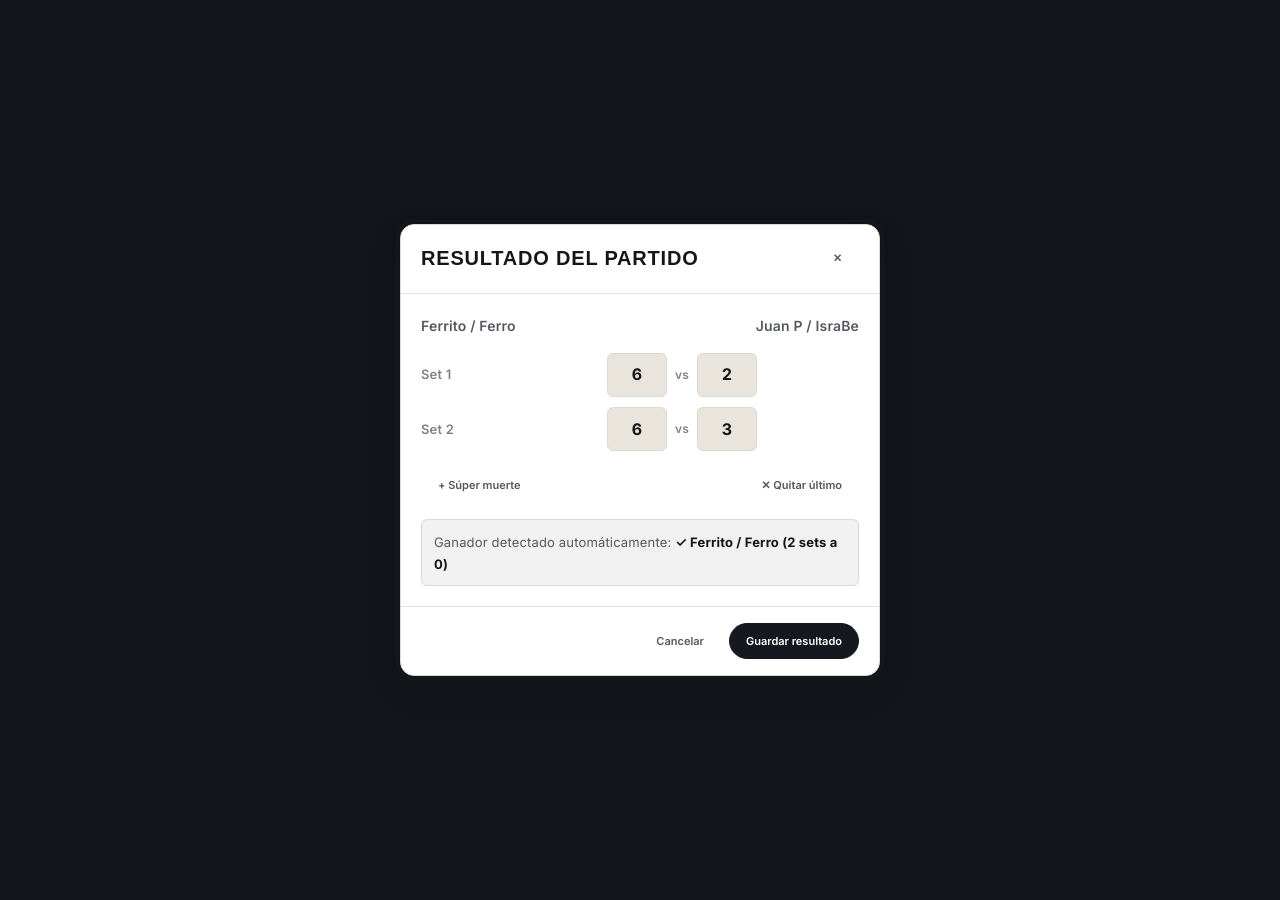
PartidoSetsResultModal súper muerte › el usuario puede agregar el campo y también quitarlo
What coordinates should you click on to do the following:
click the button "+ Súper muerte"
I would click on:
 (479, 485)
Its box is [421,467,538,503].
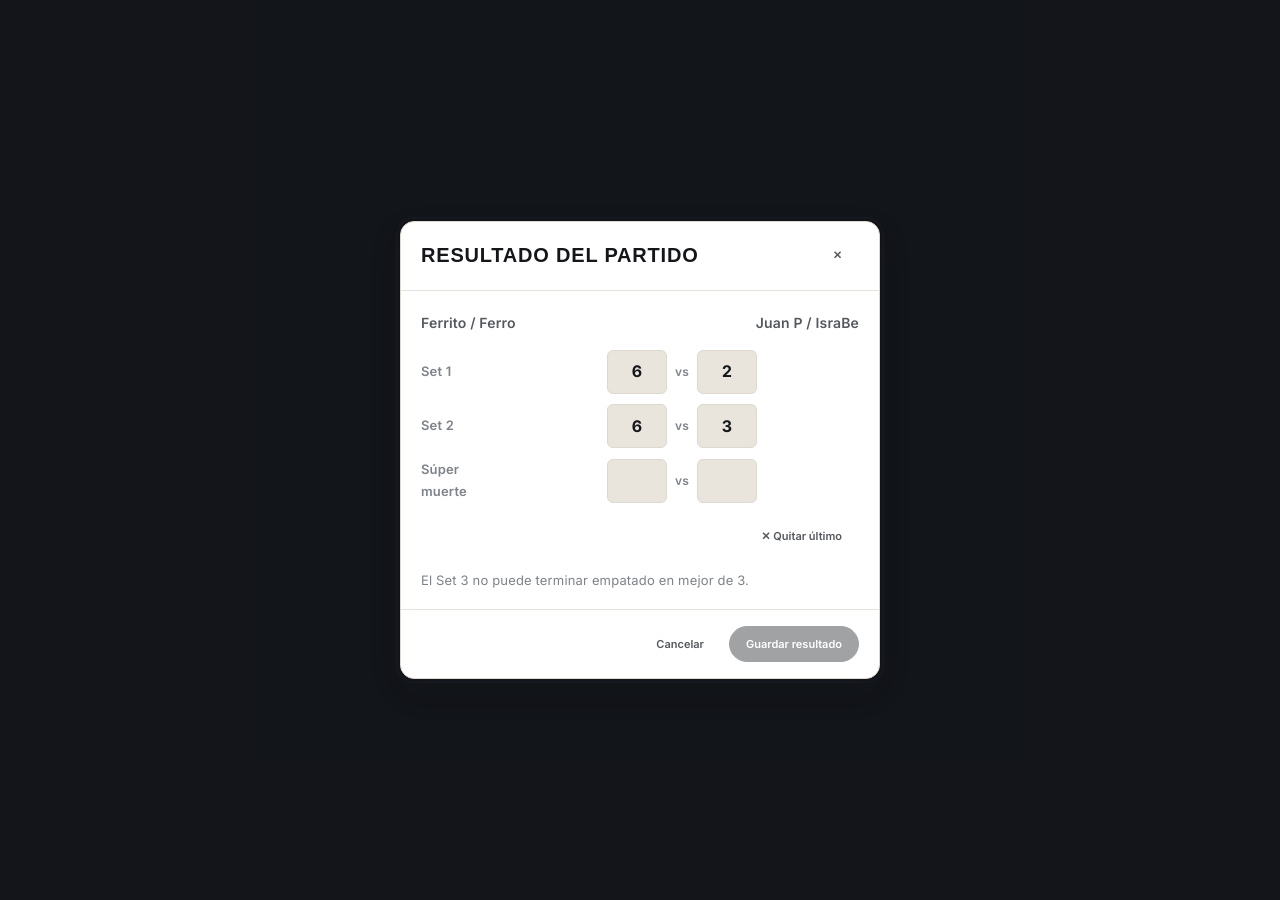
Expected: the text "Súper muerte" is shown, [421,461,467,498]
What coordinates should you click on to do the following:
click the button "✕ Quitar último"
I would click on:
 (802, 536)
Its box is [744,518,859,554].
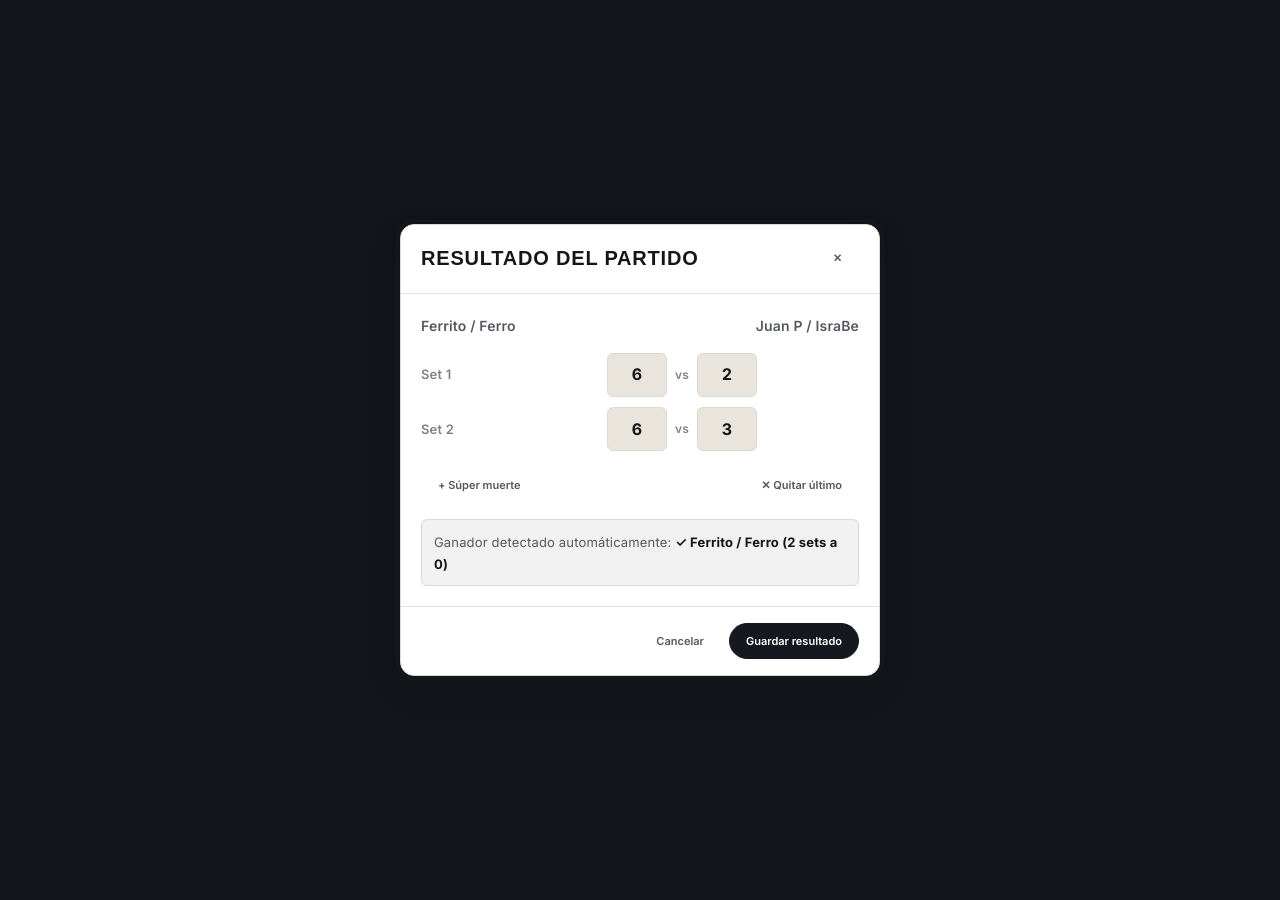
Result: the button "+ Súper muerte" is shown at [421,467,538,503]
